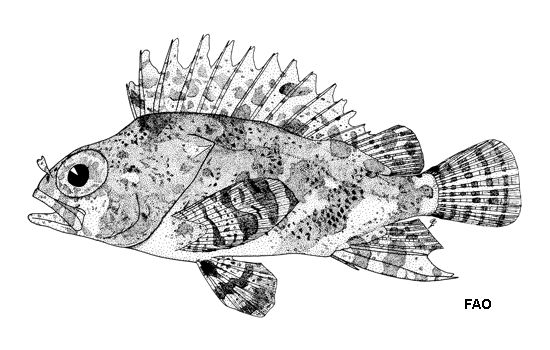fish: (26, 34, 522, 316)
